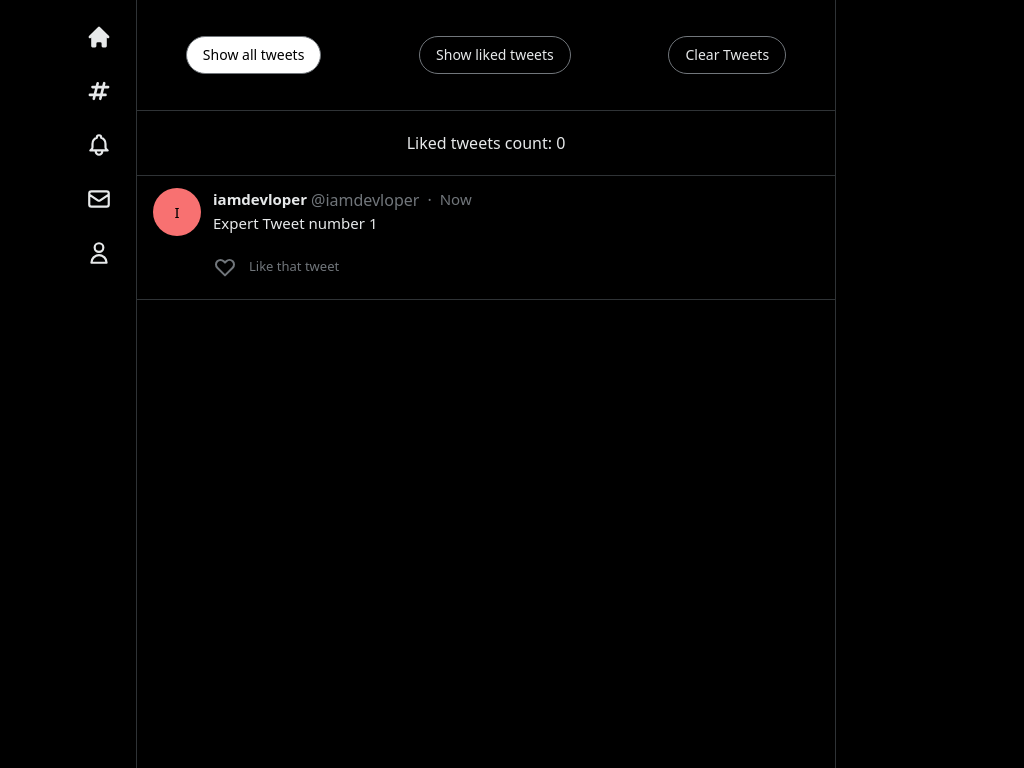
it: Tweet actions should work › should filter liked tweets correctly
The width and height of the screenshot is (1024, 768).
Expected: the number of icons with test id "defaultTweet" is 1, [213, 255, 237, 279]
Click the button with test id "tweetLikeButton": x=272, y=267 [205, 247, 339, 287]
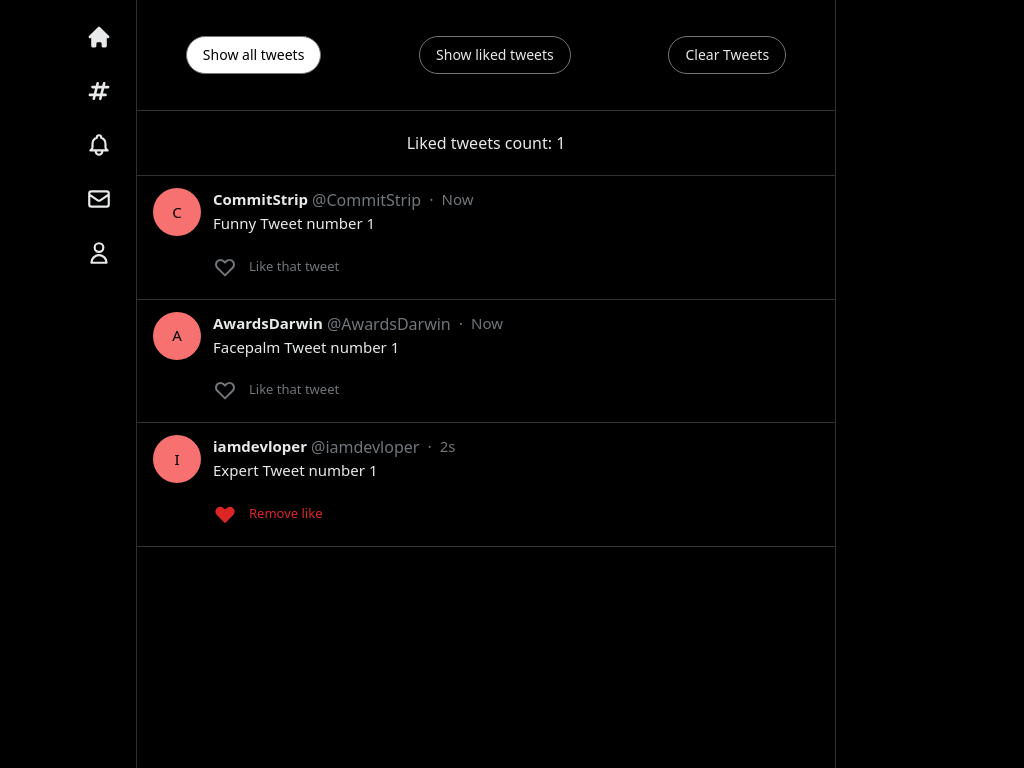
Expected: the number of icons with test id "likedTweet" is 1, [213, 502, 237, 526]
Expected: the number of icons with test id "defaultTweet" is 2, [213, 254, 237, 278]; [213, 378, 237, 402]
Click the button with test id "showLikedTweetsButton": x=495, y=55 [419, 36, 571, 74]
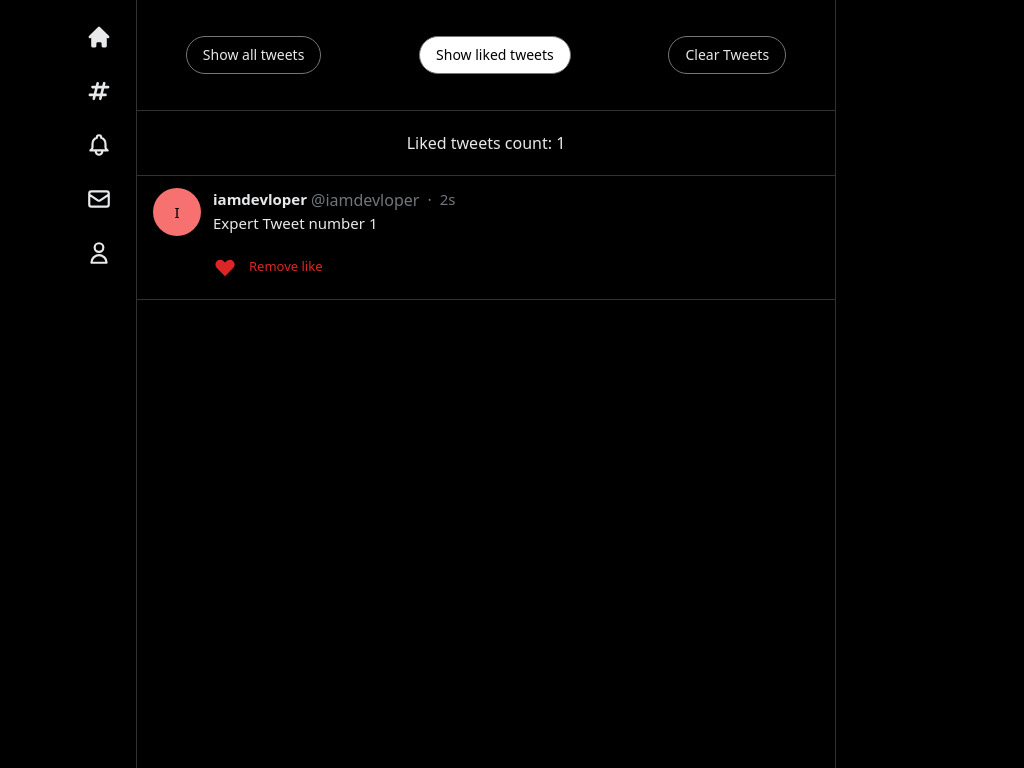
Expected: the number of icons with test id "likedTweet" is 1, [213, 255, 237, 279]
Expected: no icons with test id "defaultTweet" are shown
